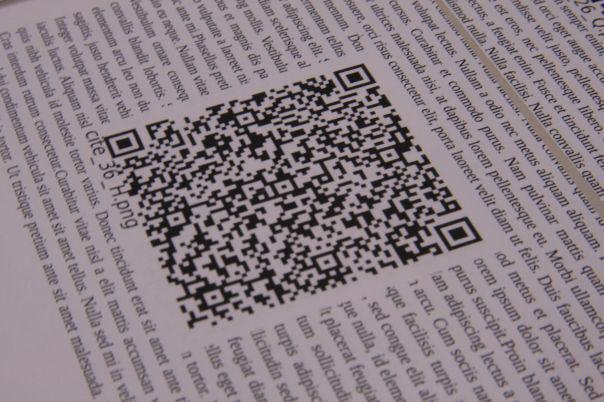Finder pattern: (433, 213, 485, 255), (332, 62, 379, 93), (101, 127, 146, 158)
